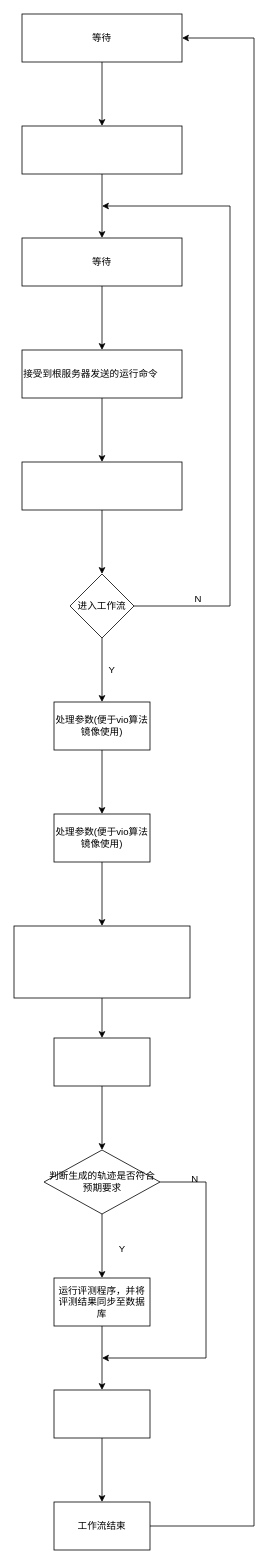
Some shapes in this 274 by 1564 pixel diagram are drawn without their labels. Each missing label, with the centre of its shape:
1.接受到根服务器发送的数据集清单 2.接受到根服务器发送的运行参数配置: the point at 101,149
原始数据预处理，把： 1.黄惯导， 2.imu， 3.gps 转换为标准格式(即vio算法能识别的格式): the point at 101,961
更新热力图: the point at 101,1413
根据分配到的数据集列表和运行参数配置对工作序列进行安排: the point at 101,485
调用vio算法对应的镜像，生成容器，传入对应参数，执行: the point at 101,1061
